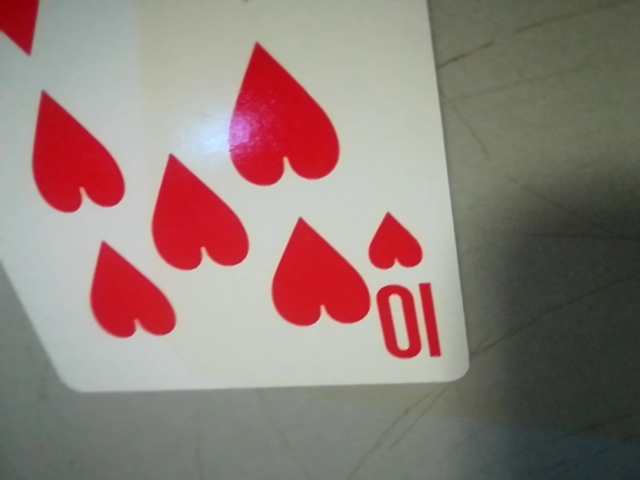hx 10: (359, 206, 455, 382)
